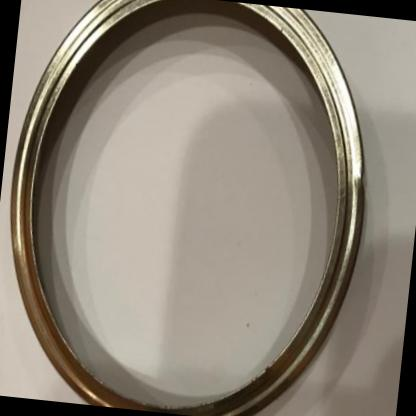Metal: (10, 0, 364, 416)
